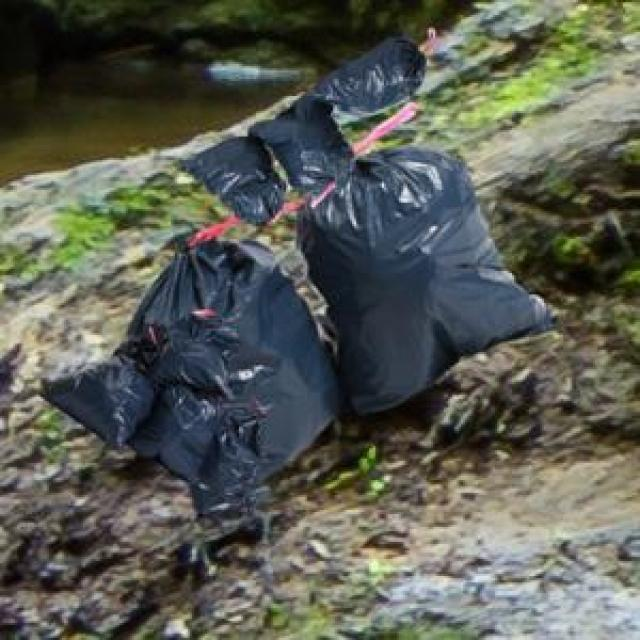Trashbag: (302, 164, 542, 412), (187, 124, 284, 230), (139, 309, 241, 402), (318, 36, 433, 116), (42, 364, 150, 446), (265, 98, 350, 192), (200, 418, 266, 521), (145, 392, 217, 481)
